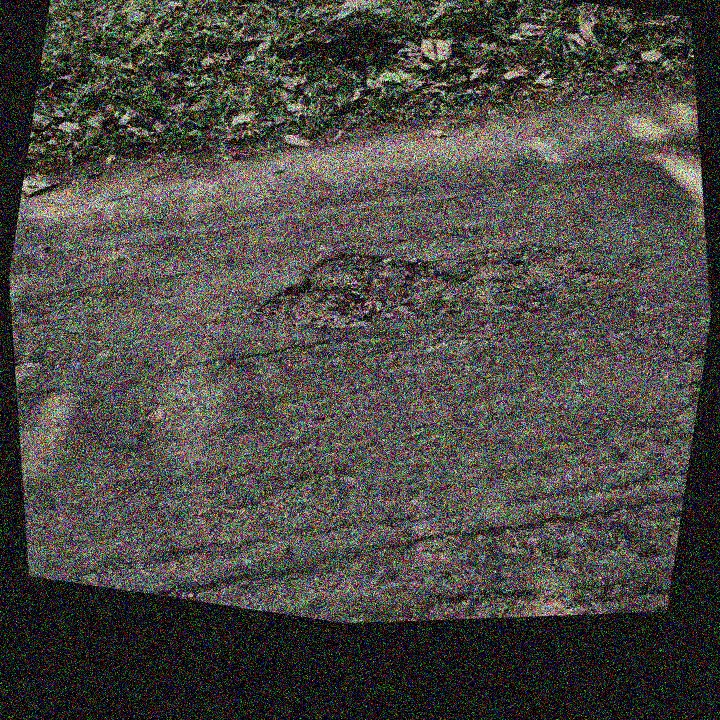pothole: (228, 185, 606, 384)
